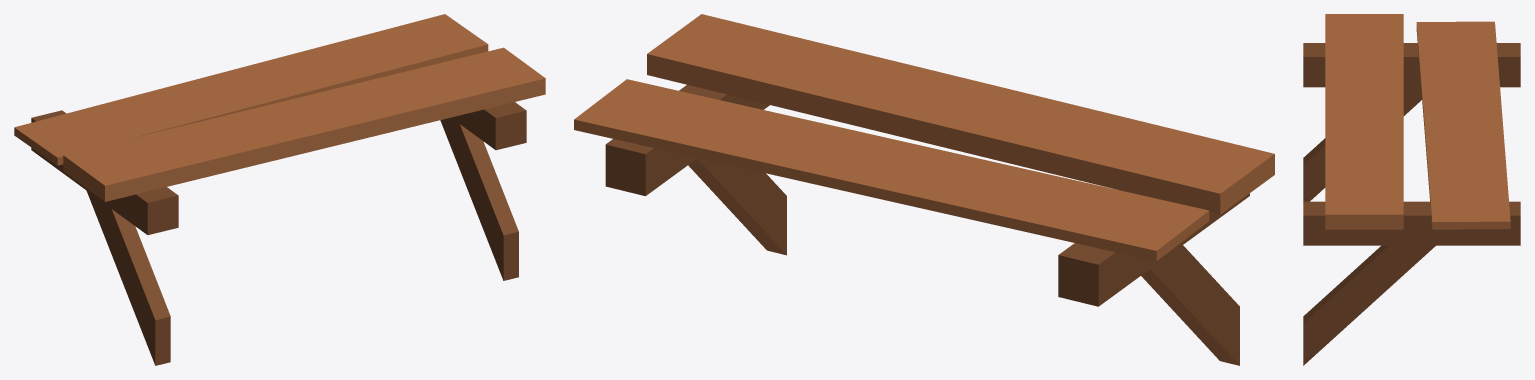
File: bridgeHalf.glb
3 renders of one model, left to right at view 1: azimuth 30°, elevation 25°; view 2: azimuth 150°, elevation 25°; view 3: azimuth 270°, elevation 25°, orthographic. The views are drawn at different scales.
Visible parts, largest first — view 1: bridgeHalf; view 2: bridgeHalf; view 3: bridgeHalf.
Boxes of the visible parts, x1,y1,x2,y2 form: bridgeHalf: [14, 14, 545, 365]; bridgeHalf: [574, 14, 1274, 365]; bridgeHalf: [1303, 14, 1520, 365].
Bounding box in the file's own units: 1 × 0.3925 × 0.4575.
